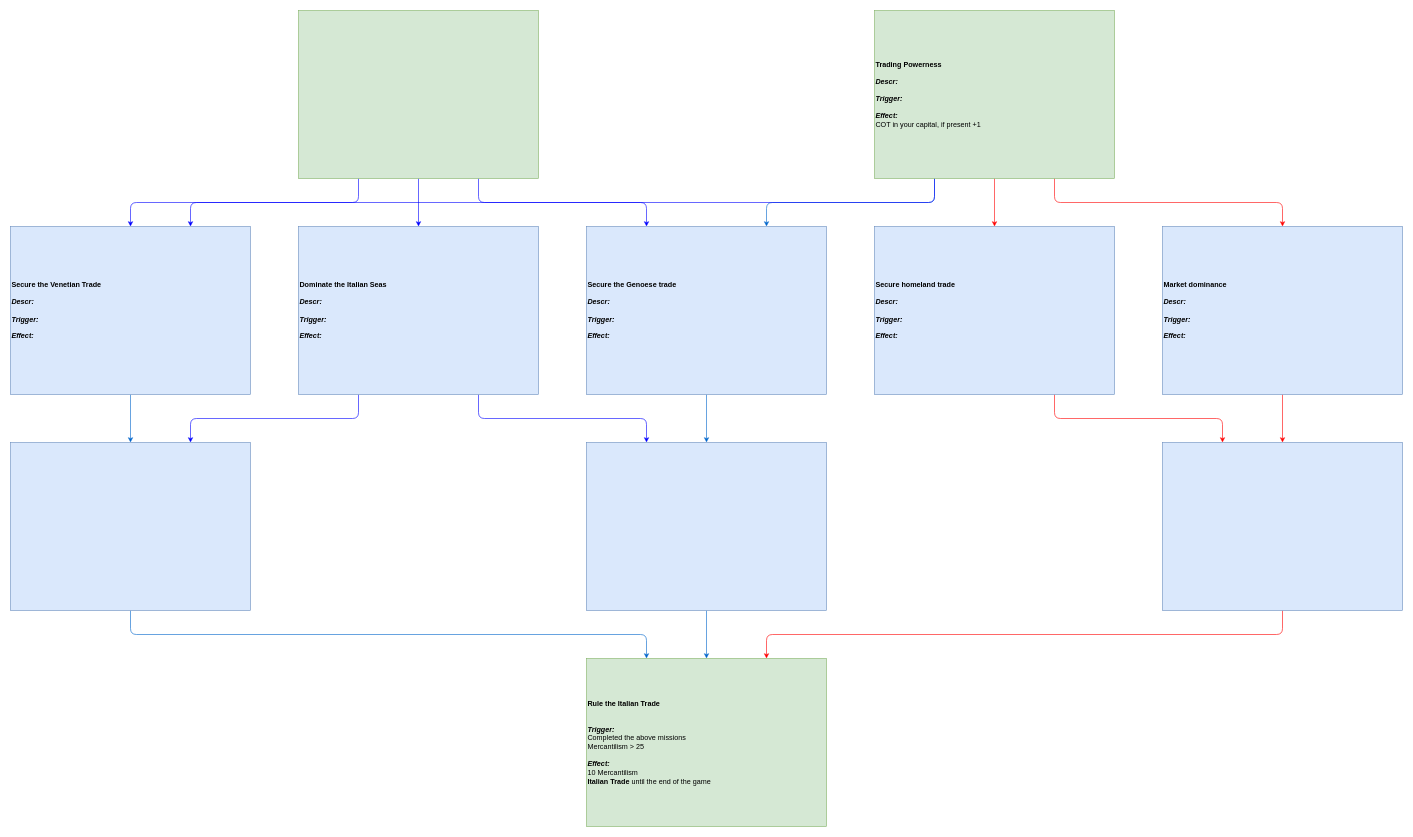
Some shapes in this 1413 by 837 pixel diagram are drawn without their labels. The box of each missing label's shape, as (x1, y1, x2, y2) in pixels:
A mighty fleet Descr: Trigger: Effect:: (298, 10, 538, 178)
Rule the Genoese Trade Descr: Trigger: Effect:: (586, 442, 826, 610)
Rule the Venetian trade Descr: Trigger: Effect:: (10, 442, 250, 610)
Seize the means of Production Descr: Trigger: Effect:: (1162, 442, 1402, 610)
